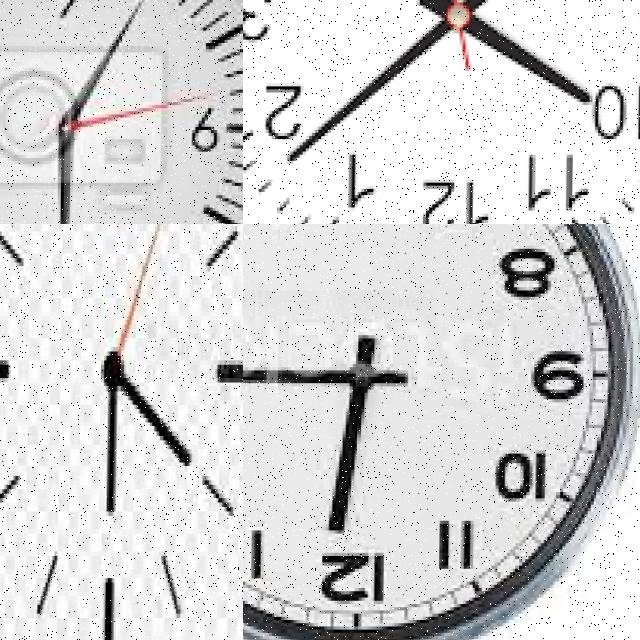Clocks-images: (244, 225, 640, 640), (1, 225, 244, 640), (244, 1, 640, 225), (1, 1, 244, 225)
